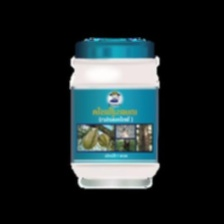insecticide: (65, 33, 162, 193)
